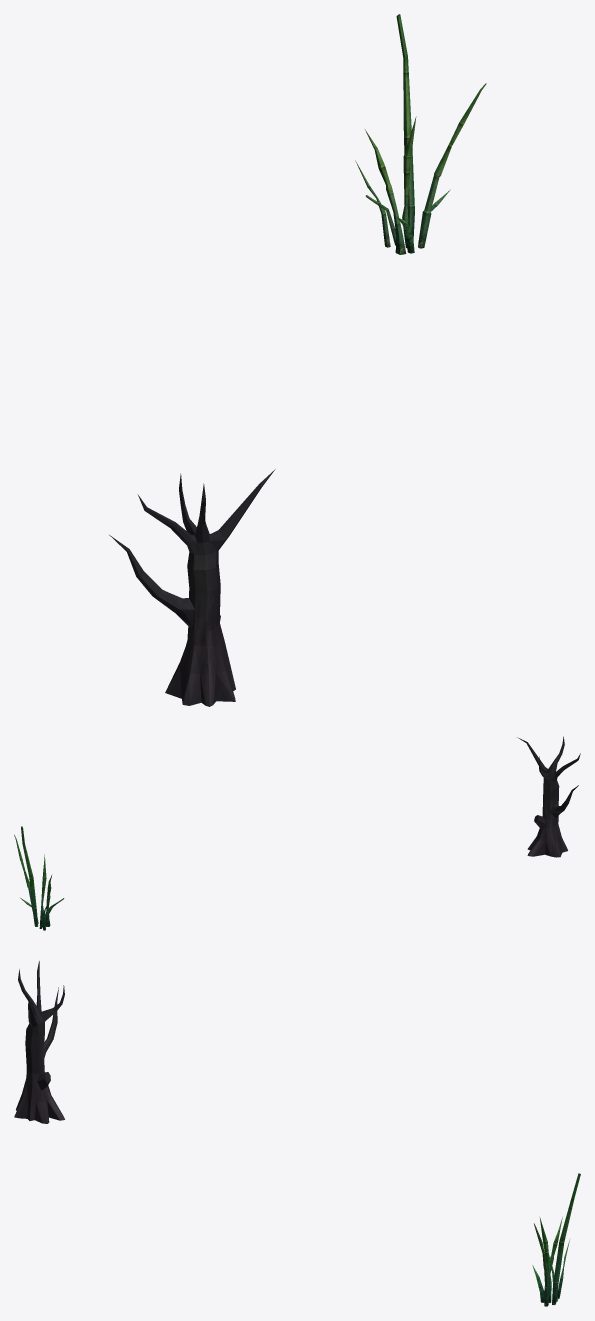
The model's file is Area_10_42.fbx.
The picture shows the model from 3 angles, top to bottom: view 1: azimuth 30°, elevation 25°; view 2: azimuth 150°, elevation 25°; view 3: azimuth 270°, elevation 25°; orthographic projection. The views are drawn at different scales.
Visible parts, largest first — view 1: Area_10_42; view 2: Area_10_42; view 3: Area_10_42.
Part boxes in pixels (box(x1,y1,x2,y2)): Area_10_42: box(109, 14, 486, 706); Area_10_42: box(14, 736, 580, 930); Area_10_42: box(14, 961, 580, 1306).
Bounding box in the file's own units: 5170 × 1477 × 5334.
